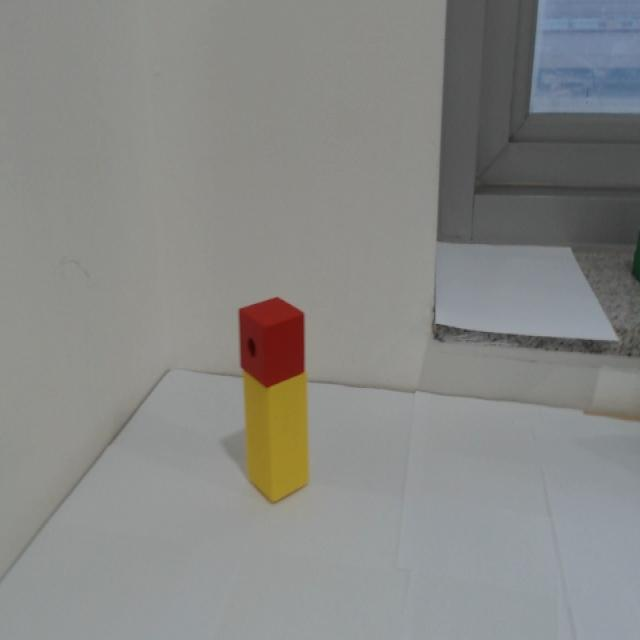cube: (238, 294, 308, 389)
